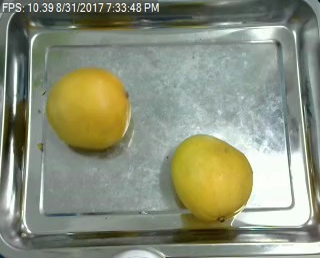Mango: (171, 134, 253, 222), (46, 70, 130, 150)
